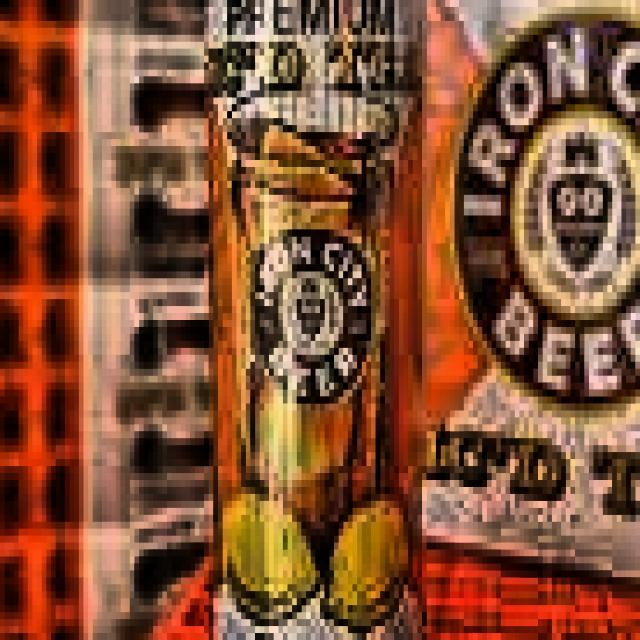metal: (200, 0, 432, 640)
